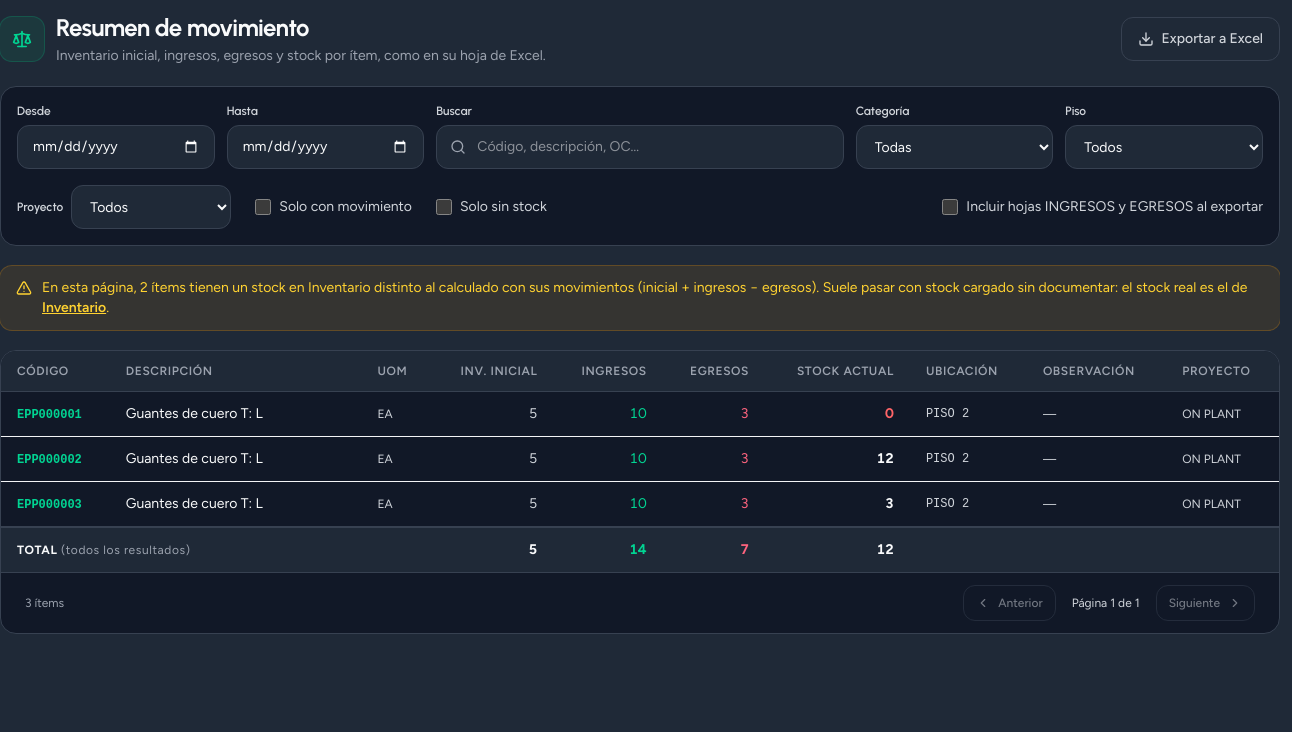
Scenario: ResumenPage — stock distinto al de Inventario › con un periodo no compara: el cierre de un periodo pasado no tiene por qué igualar al stock de hoy
Expected: the table is shown, [1,351,1279,572]
Expected: the text "stock en Inventario distinto" is shown, [229,279,1247,296]
Type "2026-10-10" into the date field labelled "Hasta" at (326, 147), box [227,125,424,169]
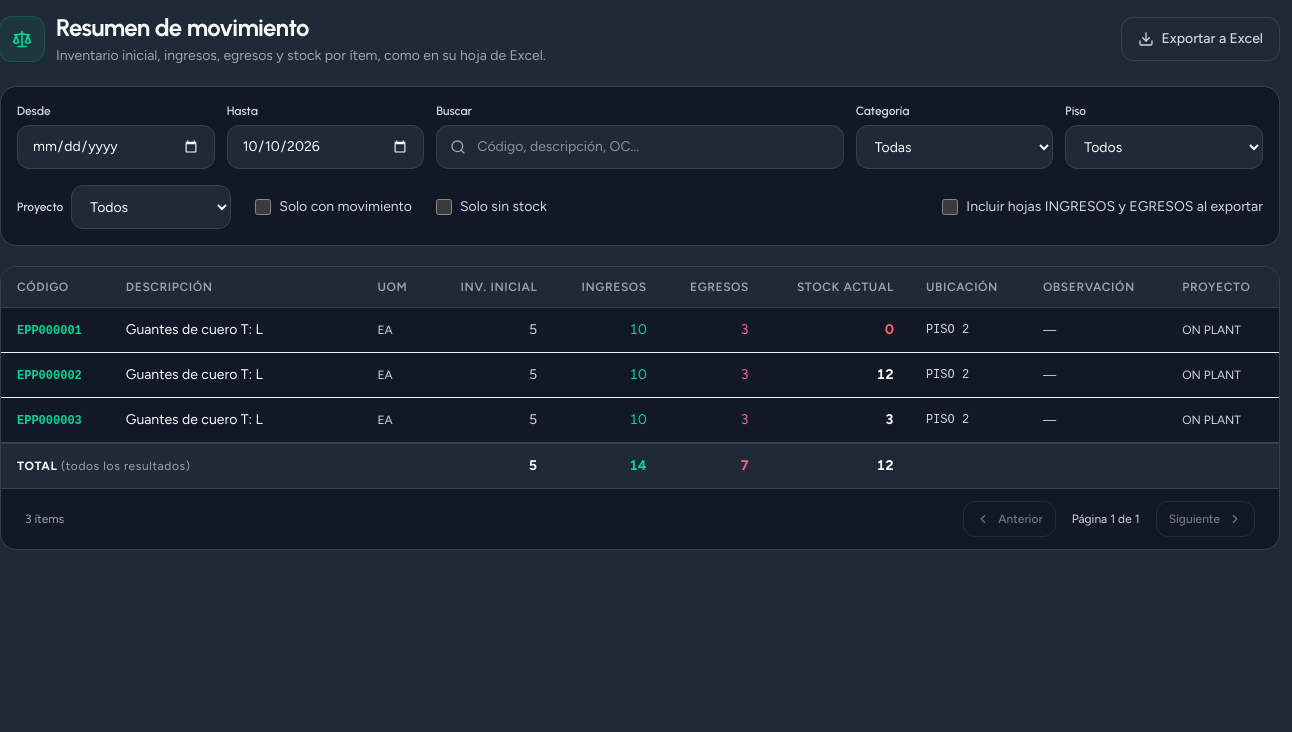
Expected: the text "stock en Inventario distinto" is gone
